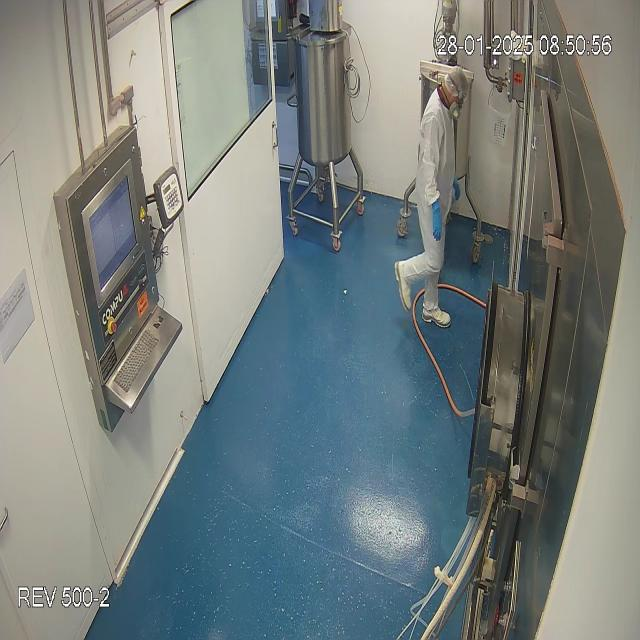bota: (390, 253, 453, 332)
pessoa: (392, 65, 472, 327)
touca: (438, 67, 466, 114)
